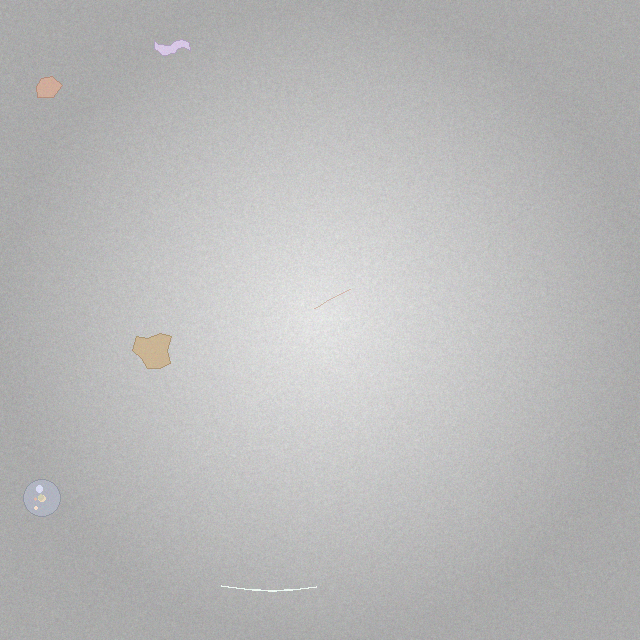fiber: (313, 287, 353, 311), (219, 583, 319, 592)
film: (154, 40, 190, 56)
foam: (24, 479, 60, 516)
fragment: (132, 334, 171, 368), (37, 76, 62, 98)
